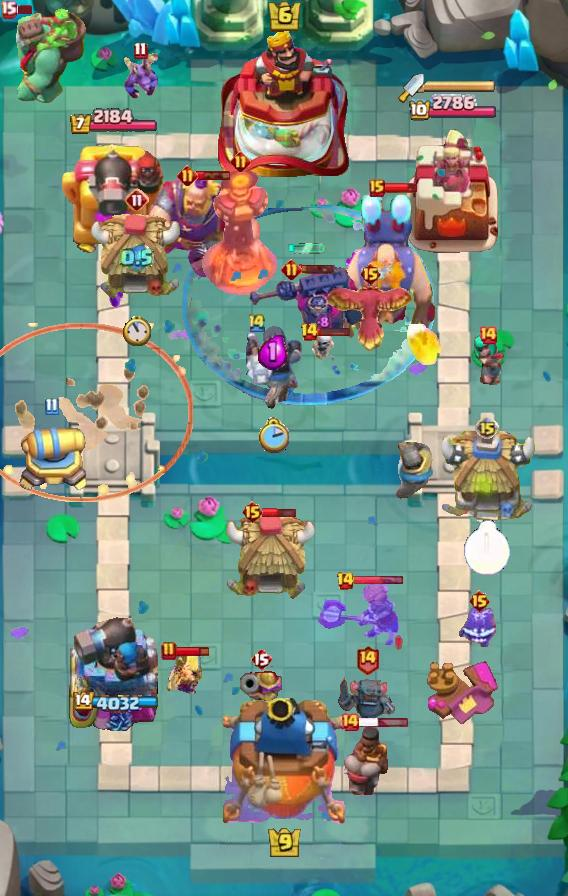arrows: (164, 647, 205, 695)
bar: (403, 124, 503, 256)
battle-ram: (337, 673, 397, 723)
bomb-tower: (240, 666, 282, 734)
electro-dragon: (201, 170, 279, 298)
electro-spirit: (258, 333, 288, 371), (120, 243, 154, 273), (316, 311, 333, 333)
elite-barbarian: (338, 723, 390, 797)
elixir: (463, 520, 511, 576), (257, 417, 289, 453), (123, 315, 151, 346)
emote: (352, 574, 404, 585), (357, 717, 409, 728), (263, 506, 298, 519), (174, 646, 209, 659), (299, 263, 336, 275), (382, 182, 418, 194), (197, 171, 232, 182), (316, 327, 351, 338), (14, 5, 34, 16)
firecracker: (394, 442, 433, 500)
golden-knight: (324, 278, 416, 352)
guard: (0, 322, 192, 501)
heal-spirit: (310, 332, 336, 362)
ice-spirit: (287, 242, 327, 254)
inferno-dragon: (243, 323, 303, 413)
inferno-tower: (247, 265, 367, 343)
king-tower: (218, 27, 350, 181), (223, 698, 345, 826)
king-tower-bar: (424, 80, 496, 94)
lava-hound: (0, 6, 88, 104)
lightning: (142, 175, 263, 281)
little-prince: (334, 193, 438, 341)
pad_0: (180, 203, 434, 405)
prince: (436, 431, 538, 527), (90, 212, 184, 302), (222, 512, 316, 602)
royal-delivery: (122, 53, 158, 101)
royal-recruit: (14, 411, 88, 495)
selected: (408, 94, 498, 123), (69, 108, 159, 136), (70, 692, 157, 714)
spear-goblin: (459, 603, 499, 647)
tesla-evolution: (316, 581, 400, 648)
text: (355, 644, 380, 675), (125, 188, 149, 212), (475, 416, 499, 440), (358, 262, 381, 286), (241, 500, 264, 524), (468, 589, 491, 613), (250, 647, 272, 671), (229, 152, 250, 173), (178, 166, 199, 187), (282, 259, 303, 280), (247, 311, 267, 333), (478, 325, 498, 345), (336, 571, 356, 591), (340, 712, 360, 732), (301, 322, 320, 342), (161, 641, 177, 661), (0, 1, 16, 20), (369, 179, 385, 197), (44, 397, 59, 415), (133, 41, 147, 60)
tower-bar: (60, 138, 168, 256), (68, 611, 160, 731)
valkyrie: (405, 324, 443, 370)
witch: (470, 333, 506, 385)
